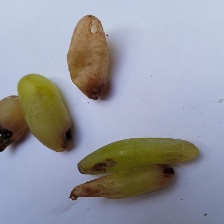grapes: (38, 42, 209, 201)
